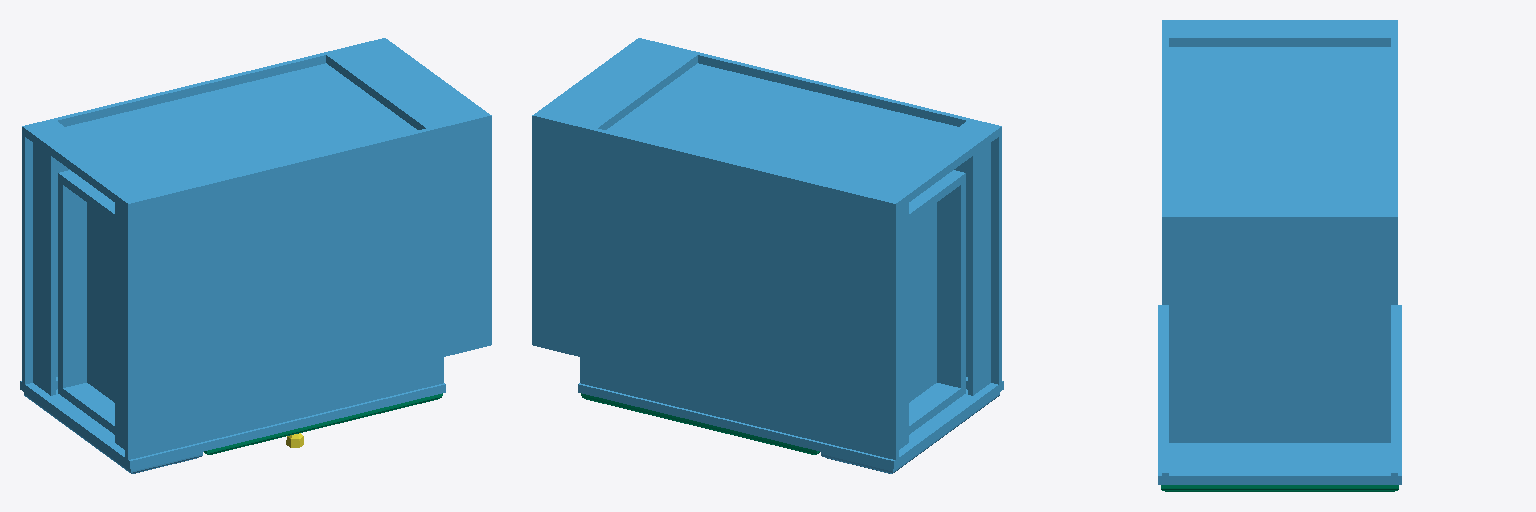
URDF robot description (right-pull-door):
<?xml version="1.0" ?>
<robot name="right-pull-door">
    <mujoco>
        <compiler meshdir="texture_stl" balanceinertia="true" discardvisual="false"/>
    </mujoco>
	<link name="base"/>
	<link name="link_0">
		<visual name="out-frame">
			<origin xyz="0 0 0"/>
			<geometry>
				<mesh filename="texture_stl/frame.stl" scale="0.8 0.8 0.8"/>
			</geometry>
		</visual>
		<collision>
			<origin xyz="0 0 0"/>
			<geometry>
				<mesh filename="texture_stl/frame.stl" scale="0.8 0.8 0.8"/>
			</geometry>
		</collision>
	</link>
	<joint name="joint_0" type="fixed">
		<origin rpy="1.570796326794897 0 -1.570796326794897" xyz="0 0 0"/>
		<child link="link_0"/>
		<parent link="base"/>
	</joint>
	<link name="link_1">
		<visual name="surf-board">
			<origin xyz="0.5756021499633789 -0.3271514650786183 0"/>
			<geometry>
				<mesh filename="texture_stl/board.stl" scale="0.8 0.8 0.8"/>
			</geometry>
		</visual>
		<collision>
			<origin xyz="0.5756021499633789 -0.3271514650786183 0"/>
			<geometry>
				<mesh filename="texture_stl/board.stl" scale="0.8 0.8 0.8"/>
			</geometry>
		</collision>
	</link>
	<joint name="joint_1" type="revolute">
		<origin xyz="-0.5756021499633789 0.3271514650786183 0"/>
		<axis xyz="0 -1 0"/>
		<child link="link_1"/>
		<parent link="link_0"/>
		<limit lower="0" upper="1.5079644737231006"/>
	</joint>
	<link name="link_2">
		<visual name="handle">
			<origin xyz="0 0 0"/>
			<geometry>
				<mesh filename="texture_stl/9962014.stl" scale="1.0359617858498098 1.0359617858498098 1.0359617858498098"/>
			</geometry>
		</visual>
		<collision>
			<origin xyz="0 0 0"/>
			<geometry>
				<mesh filename="texture_stl/9962014.stl" scale="1.0359617858498098 1.0359617858498098 1.0359617858498098"/>
			</geometry>
		</collision>
	</link>
	<joint name="joint_2" type="revolute">
		<origin xyz="0.5756021499633789 -0.3271514650786183 0.013056336269543679"/>
		<child link="link_2"/>
		<parent link="link_1"/>
		<axis xyz="0 0 1"/>
		<limit lower="0" upper="1.5079644737231006"/>
	</joint>
</robot>

--- Render facts (derived) ---
3 views of the same robot in one strip: view 1: azimuth 30°, elevation 25°; view 2: azimuth 150°, elevation 25°; view 3: azimuth 270°, elevation 25° (orthographic).
Robot: right-pull-door — 4 links, 3 joints (2 revolute, 1 fixed); root link base; default pose: all joints at 0.
Visible links, largest first — view 1: link_0, link_1; view 2: link_0, link_1; view 3: link_0, link_1.
Boxes of the visible links, bbox=[...] form: link_0: bbox=[20, 38, 491, 473]; link_1: bbox=[204, 393, 442, 454]; link_0: bbox=[532, 38, 1003, 473]; link_1: bbox=[581, 393, 819, 454]; link_0: bbox=[1158, 20, 1401, 484]; link_1: bbox=[1161, 485, 1398, 491].
Bounding box of the posed robot: 1.2 × 0.627 × 0.9111 m (x, y, z).
3 mesh visuals loaded from 3 distinct referenced files (3 binary STL).